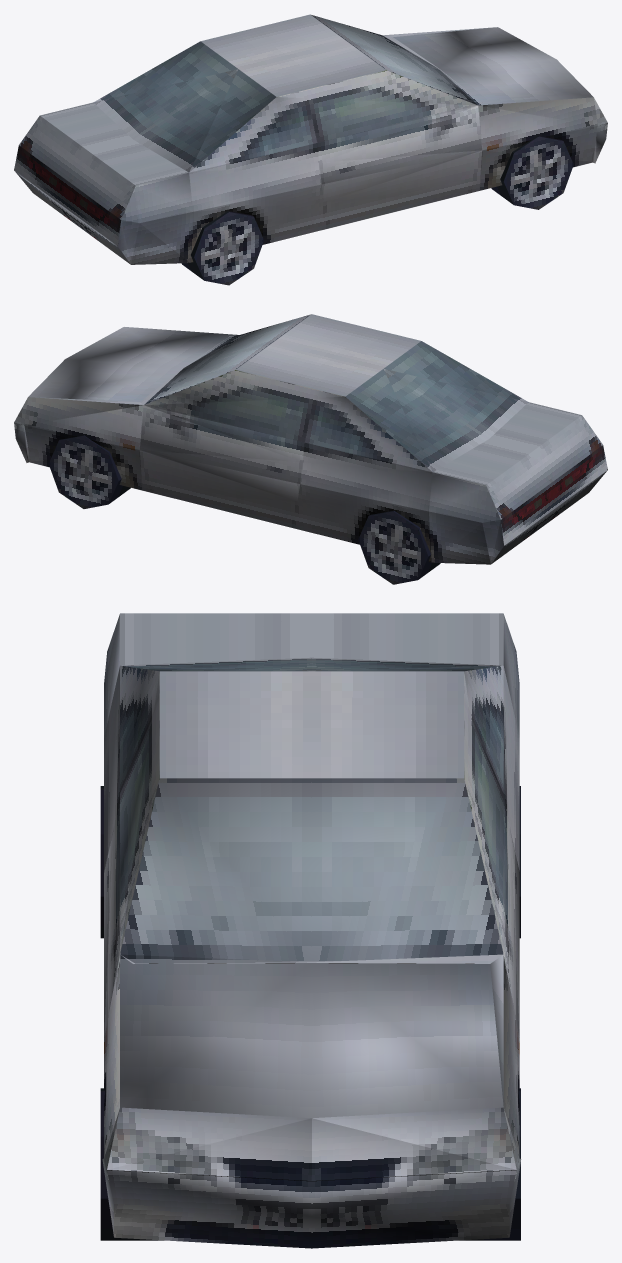
The model's file is honda_accord.glb.
The picture shows the model from 3 angles, top to bottom: view 1: azimuth 30°, elevation 25°; view 2: azimuth 150°, elevation 25°; view 3: azimuth 270°, elevation 25°; orthographic projection. The views are drawn at different scales.
Parts seen in each view (by area): view 1: Body, Door_R, Window_Back, Trunk, Hood, Roof, Wheel_BR, Wheel_FR, Window_Front; view 2: Body, Door_L, Window_Back, Trunk, Hood, Roof, Wheel_BL, Wheel_FL, Window_Front; view 3: Window_Front, Hood, Body, Roof, Bumper, Trunk, Door_L, Door_R, Window_Back, Wheel_FR.
Part boxes in pixels (left/top/right/bottom): Body: left=14, top=27, right=607, bottom=264; Door_R: left=307, top=70, right=482, bottom=228; Window_Back: left=93, top=41, right=275, bottom=172; Trunk: left=19, top=102, right=188, bottom=219; Hood: left=393, top=27, right=593, bottom=105; Roof: left=201, top=14, right=385, bottom=96; Wheel_BR: left=181, top=211, right=263, bottom=285; Wheel_FR: left=491, top=135, right=573, bottom=209; Window_Front: left=311, top=15, right=477, bottom=105; Body: left=14, top=335, right=607, bottom=564; Door_L: left=139, top=370, right=314, bottom=527; Window_Back: left=345, top=341, right=528, bottom=471; Trunk: left=433, top=402, right=602, bottom=519; Hood: left=28, top=327, right=238, bottom=401; Roof: left=236, top=314, right=420, bottom=396; Wheel_BL: left=358, top=511, right=440, bottom=584; Wheel_FL: left=48, top=435, right=130, bottom=508; Window_Front: left=144, top=314, right=310, bottom=404; Window_Front: left=120, top=778, right=503, bottom=962; Hood: left=120, top=954, right=503, bottom=1118; Body: left=104, top=614, right=519, bottom=1181; Roof: left=159, top=671, right=464, bottom=778; Bumper: left=102, top=1158, right=521, bottom=1248; Trunk: left=120, top=613, right=503, bottom=665; Door_L: left=464, top=702, right=519, bottom=1037; Door_R: left=104, top=701, right=159, bottom=1037; Window_Back: left=122, top=657, right=501, bottom=671; Wheel_FR: left=100, top=1088, right=163, bottom=1240.
Bounding box in the file's own units: 7.92 × 2.45 × 2.87.
Materials: 7 (7 with a texture image).
